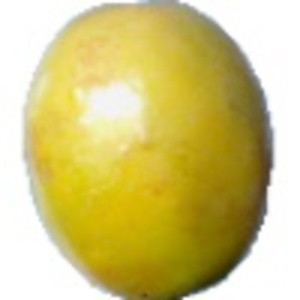maracujá: (21, 1, 277, 300)
